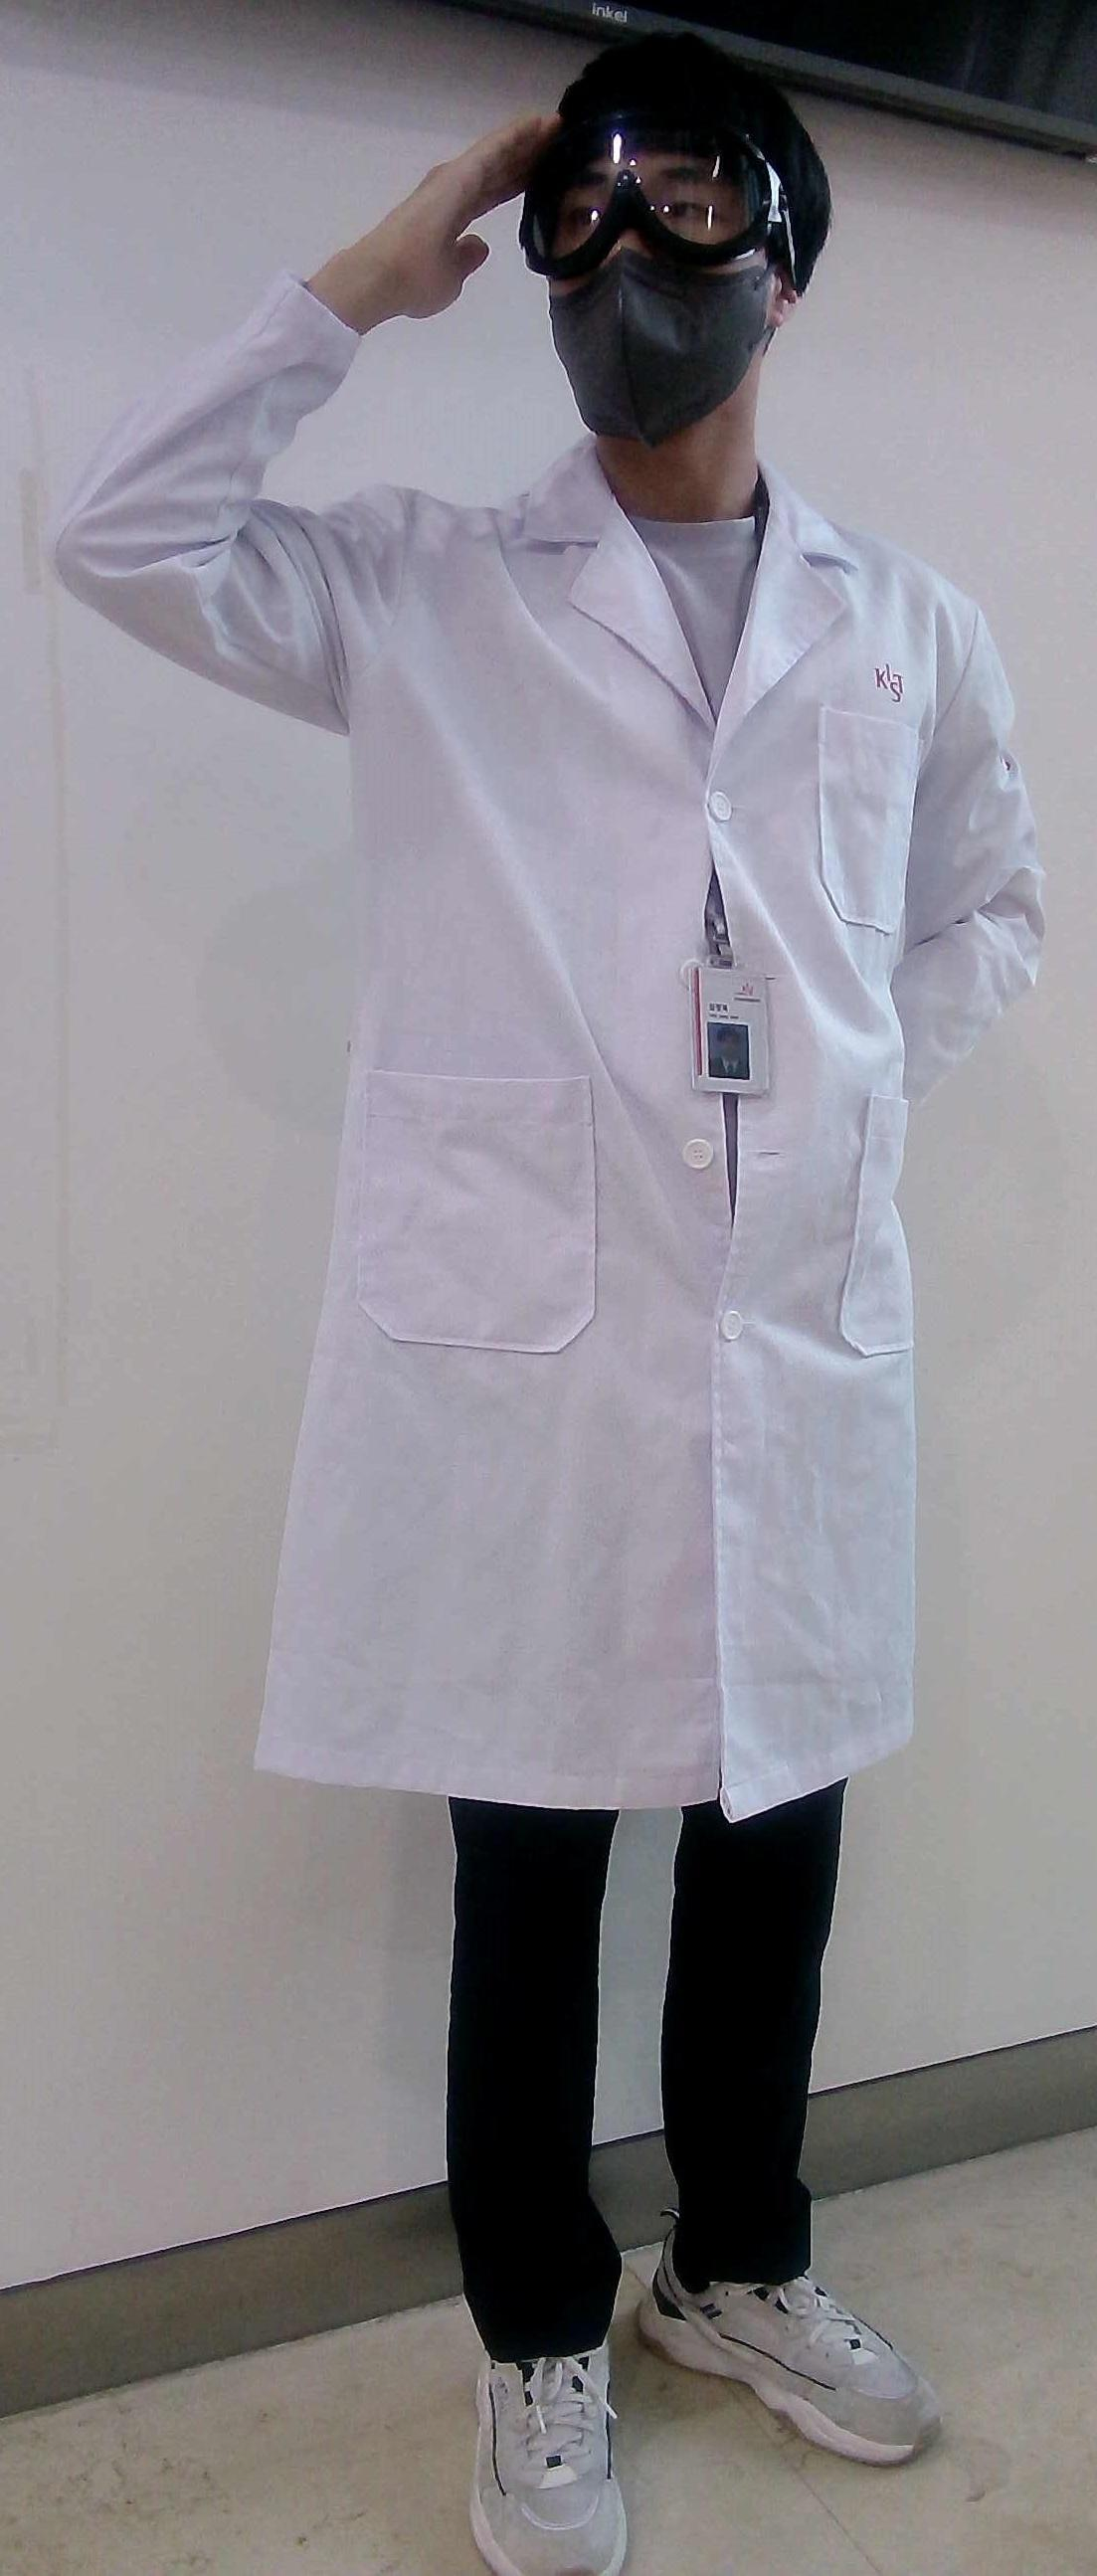lab_coat: (146, 473, 1044, 1840)
